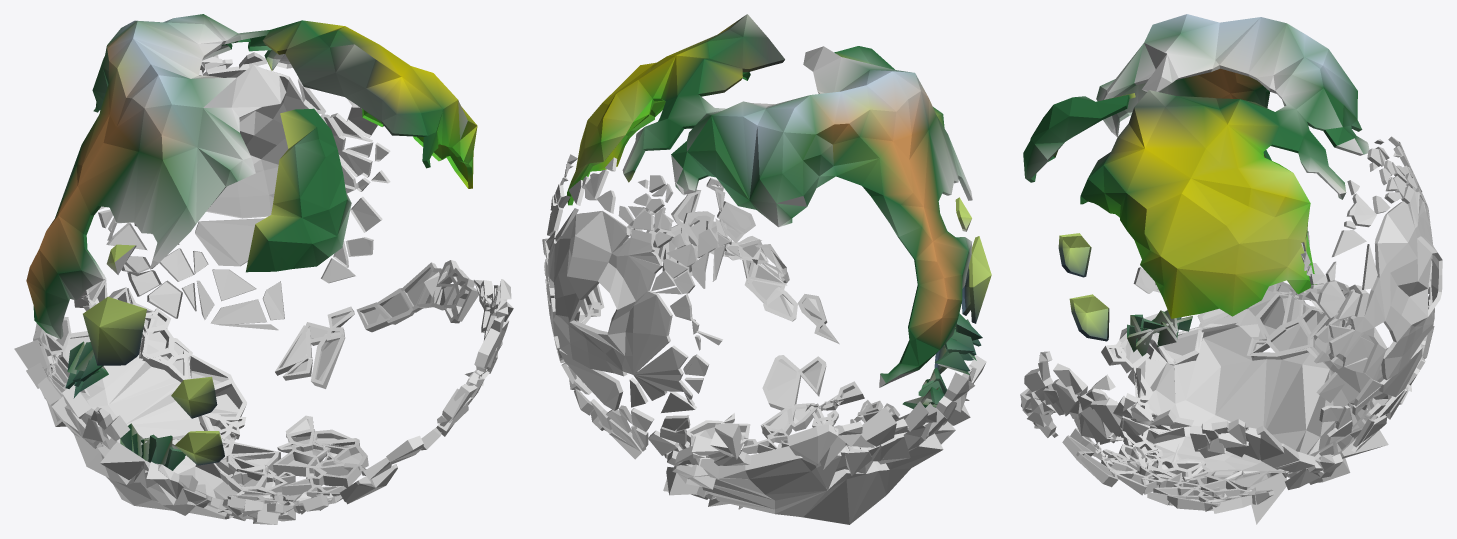
Rendered from Lava_Planet_001.fbx.
The picture shows the model from 3 angles, left to right: view 1: azimuth 30°, elevation 25°; view 2: azimuth 150°, elevation 25°; view 3: azimuth 270°, elevation 25°; orthographic projection. The views are drawn at different scales.
Parts seen in each view (by area): view 1: Lava.Planet.001; view 2: Lava.Planet.001; view 3: Lava.Planet.001.
Boxes of the visible parts, box(x1,y1,x2,y2) form: Lava.Planet.001: box(14, 14, 513, 524); Lava.Planet.001: box(542, 14, 991, 524); Lava.Planet.001: box(1020, 14, 1442, 524).
Bounding box in the file's own units: 75874 × 83027 × 71468.
